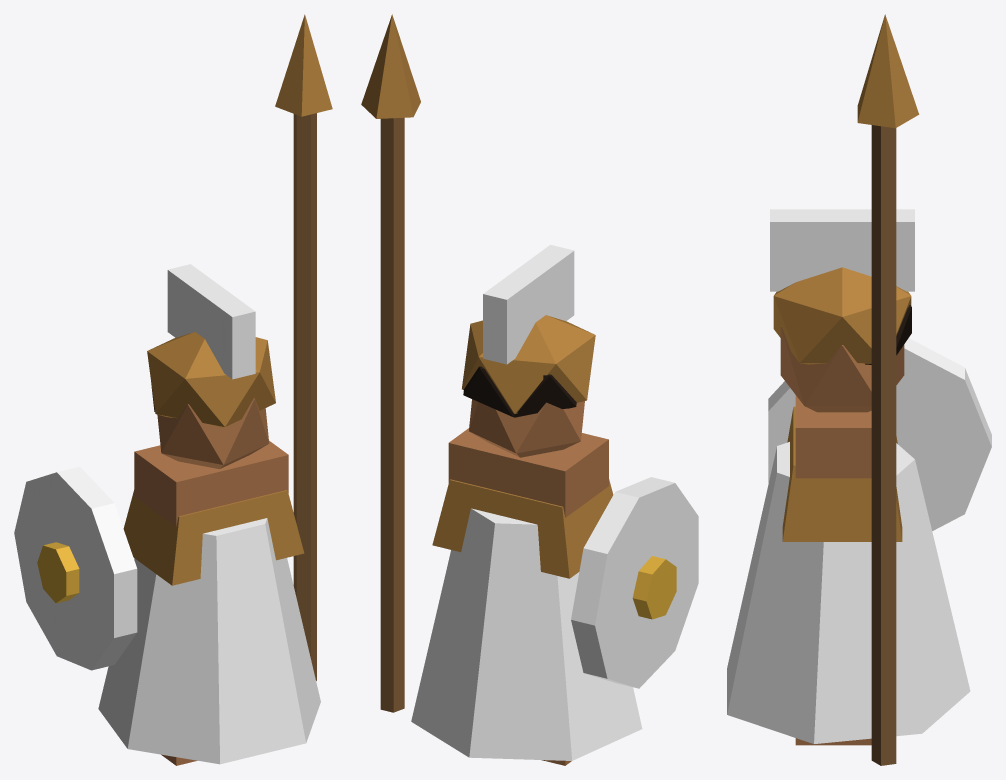
Rendered from warrior.glb.
3 views of the same model, side by side, from view 1: azimuth 30°, elevation 25°; view 2: azimuth 150°, elevation 25°; view 3: azimuth 270°, elevation 25° (orthographic). The views are drawn at different scales.
Parts seen in each view (by area): view 1: part, part.011, part.009, part.008, part.006, part.003, part.007, part.004, part.010, part.012; view 2: part, part.011, part.009, part.003, part.008, part.006, part.007, part.004, part.010, part.005, part.012; view 3: part, part.009, part.011, part.007, part.006, part.008, part.003, part.004, part.010, part.005.
Part boxes in pixels (left/top/right/bottom): part: left=98, top=518, right=320, bottom=764; part.011: left=14, top=466, right=137, bottom=670; part.009: left=293, top=113, right=316, bottom=680; part.008: left=123, top=490, right=304, bottom=585; part.006: left=147, top=332, right=275, bottom=427; part.003: left=134, top=440, right=288, bottom=526; part.007: left=167, top=264, right=255, bottom=379; part.004: left=157, top=398, right=269, bottom=468; part.010: left=275, top=14, right=332, bottom=116; part.012: left=37, top=542, right=79, bottom=603; part: left=411, top=508, right=642, bottom=760; part.011: left=571, top=477, right=698, bottom=688; part.009: left=380, top=117, right=404, bottom=712; part.003: left=448, top=428, right=608, bottom=517; part.008: left=432, top=479, right=613, bottom=578; part.006: left=462, top=315, right=595, bottom=413; part.007: left=483, top=244, right=574, bottom=364; part.004: left=469, top=399, right=584, bottom=457; part.010: left=361, top=14, right=420, bottom=118; part.005: left=463, top=366, right=576, bottom=417; part.012: left=632, top=556, right=676, bottom=619; part: left=727, top=442, right=970, bottom=743; part.009: left=871, top=125, right=896, bottom=765; part.011: left=768, top=338, right=991, bottom=530; part.007: left=770, top=209, right=914, bottom=291; part.006: left=773, top=267, right=911, bottom=364; part.008: left=782, top=406, right=902, bottom=541; part.003: left=795, top=395, right=871, bottom=478; part.004: left=780, top=326, right=904, bottom=412; part.010: left=857, top=14, right=919, bottom=128; part.005: left=865, top=305, right=911, bottom=364.
Size of the model in its own units: 0.4255 by 0.985 by 0.3101.
